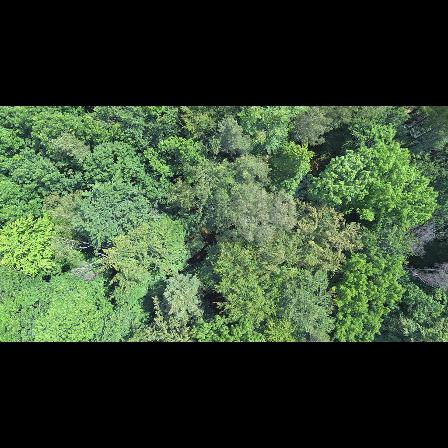Dead: (394, 223, 448, 257), (394, 262, 448, 290)
